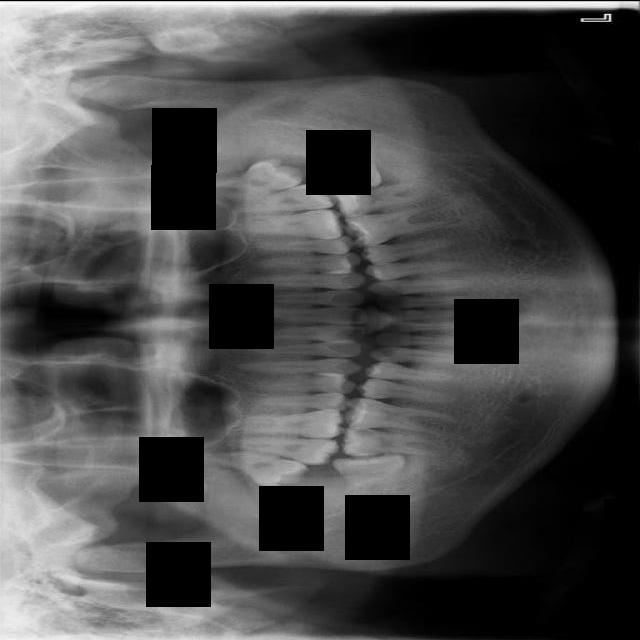3M ESPE Implant: (214, 444, 310, 494)
52: (329, 185, 374, 216)
73: (612, 10, 622, 22)
BioHorizons Implant: (229, 180, 338, 216)
BioLife Implant: (210, 151, 306, 203)
Biomet 3i Implant: (313, 139, 383, 187)
Blue Sky Bio Implant: (328, 176, 432, 218)
Caries: (229, 432, 340, 465)
Implant: (340, 425, 445, 457)
Keystone Dental Implant: (331, 450, 406, 497)
